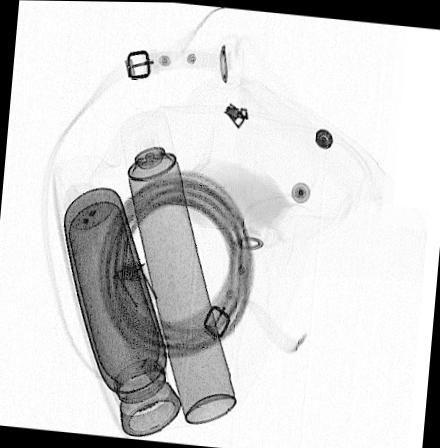Sprayer: (118, 110, 237, 425)
